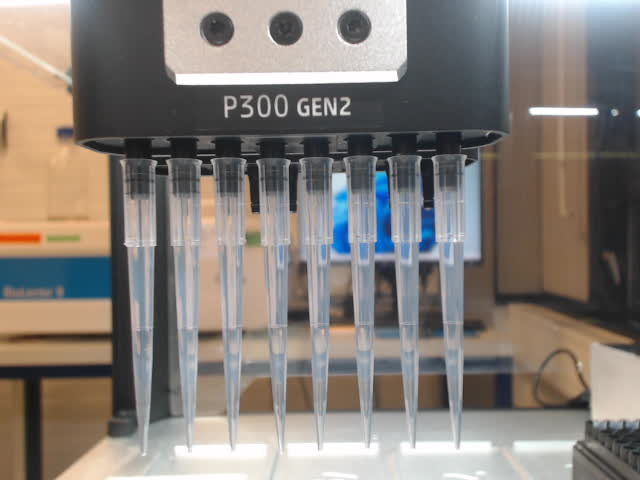Tip: (117, 156, 161, 459), (163, 156, 206, 454), (296, 155, 338, 454), (384, 155, 426, 453), (209, 156, 250, 454), (341, 155, 382, 452), (254, 155, 294, 459), (431, 152, 470, 452)
